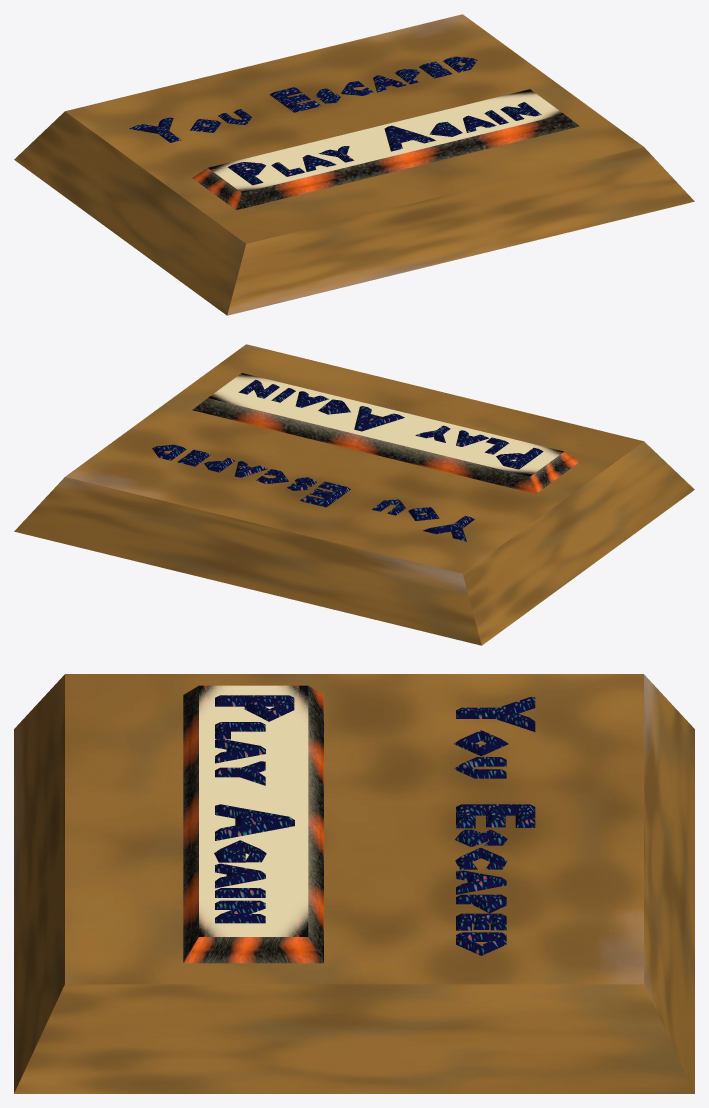
File: EscapedScrn.fbx
The picture shows the model from 3 angles, top to bottom: view 1: azimuth 30°, elevation 25°; view 2: azimuth 150°, elevation 25°; view 3: azimuth 270°, elevation 25°; orthographic projection. The views are drawn at different scales.
Visible parts, largest first — view 1: Escaped, Btn2, YouEscaped; view 2: Escaped, Btn2, YouEscaped; view 3: Escaped, Btn2, YouEscaped.
Boxes of the visible parts, <box> form: Escaped: <box>14,14,694,315</box>; Btn2: <box>192,89,579,210</box>; YouEscaped: <box>129,56,541,185</box>; Escaped: <box>14,344,694,645</box>; Btn2: <box>192,373,579,493</box>; YouEscaped: <box>152,380,543,541</box>; Escaped: <box>14,674,694,1093</box>; Btn2: <box>183,685,323,963</box>; YouEscaped: <box>214,695,535,955</box>.
Bounding box in the file's own units: 48.31 × 6.5 × 38.13.
3 materials, 3 textured.
